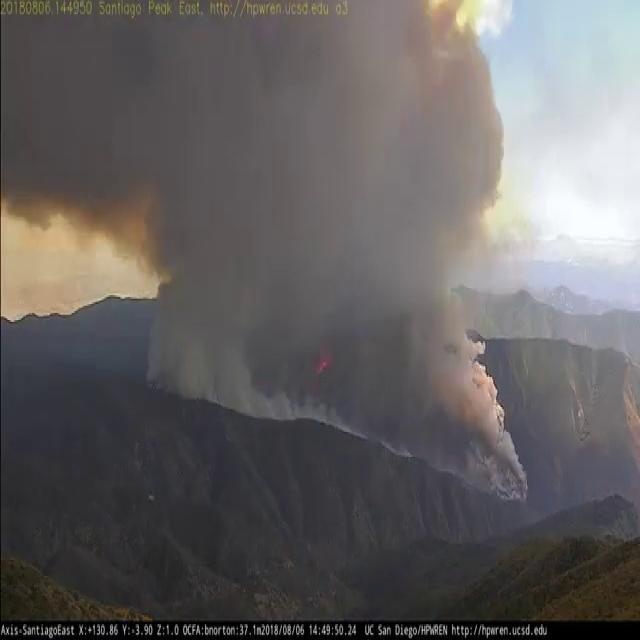Fire: (318, 352, 328, 374)
Smoke: (434, 360, 531, 496), (147, 311, 270, 418), (434, 205, 542, 283), (146, 302, 214, 397), (386, 313, 428, 458), (270, 379, 360, 442), (213, 333, 271, 421), (458, 438, 523, 506), (442, 282, 487, 359), (498, 422, 530, 497), (382, 434, 412, 460)
